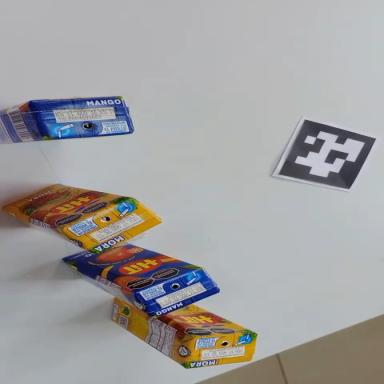HIT-MANGO: (55, 224, 224, 335), (0, 93, 134, 144)
HIT-MORA: (101, 274, 262, 384), (0, 175, 164, 264)
cara_F: (59, 225, 202, 310), (0, 173, 132, 240), (156, 292, 256, 360)
